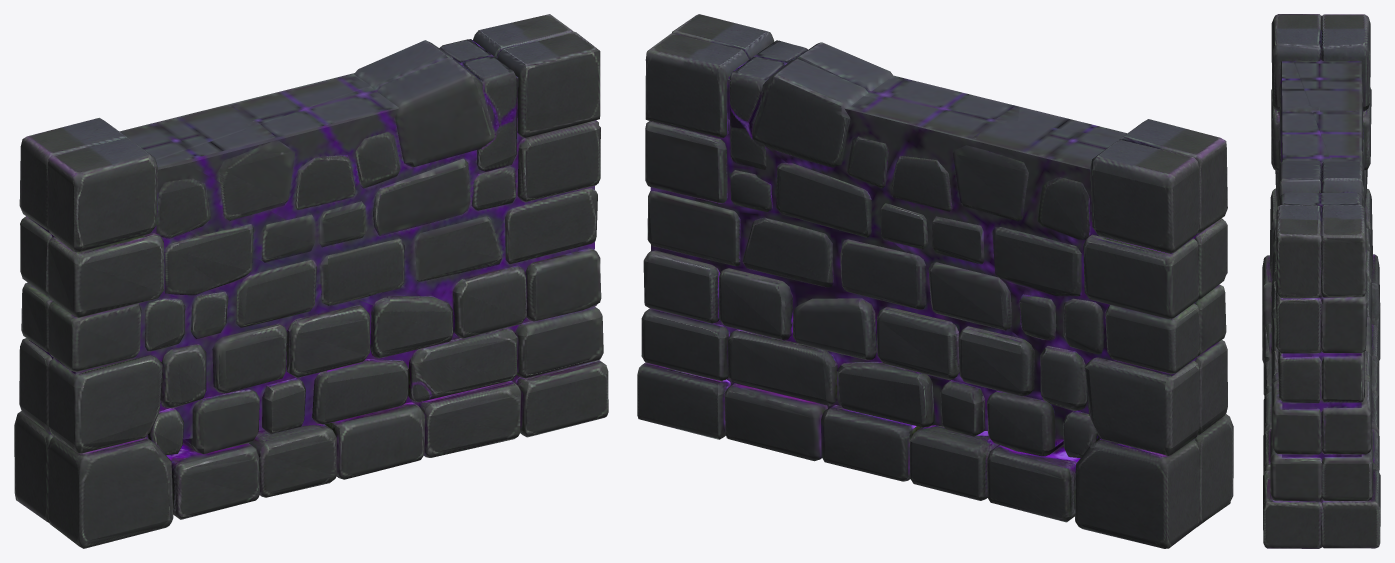
File: wall_straight_controlled.glb
3 views of the same model, side by side, from view 1: azimuth 30°, elevation 25°; view 2: azimuth 150°, elevation 25°; view 3: azimuth 270°, elevation 25° (orthographic). The views are drawn at different scales.
Bounding box in the file's own units: 1 × 0.6758 × 0.2261.
1 material, 1 textured.
